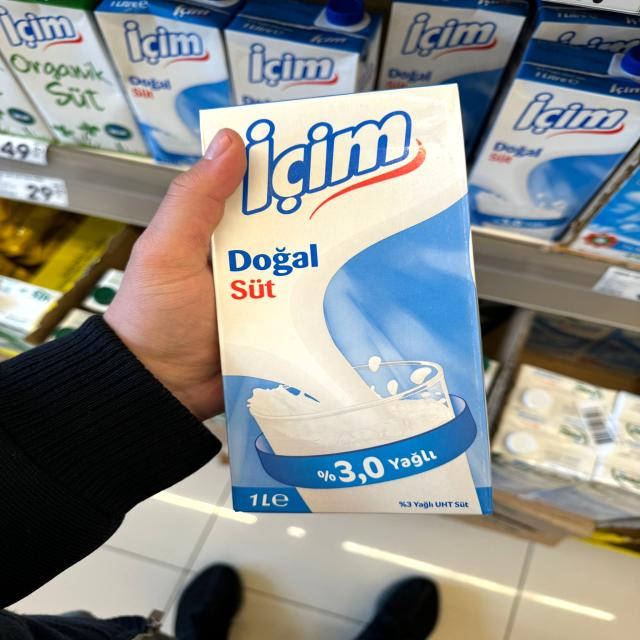milk: (193, 110, 490, 512)
